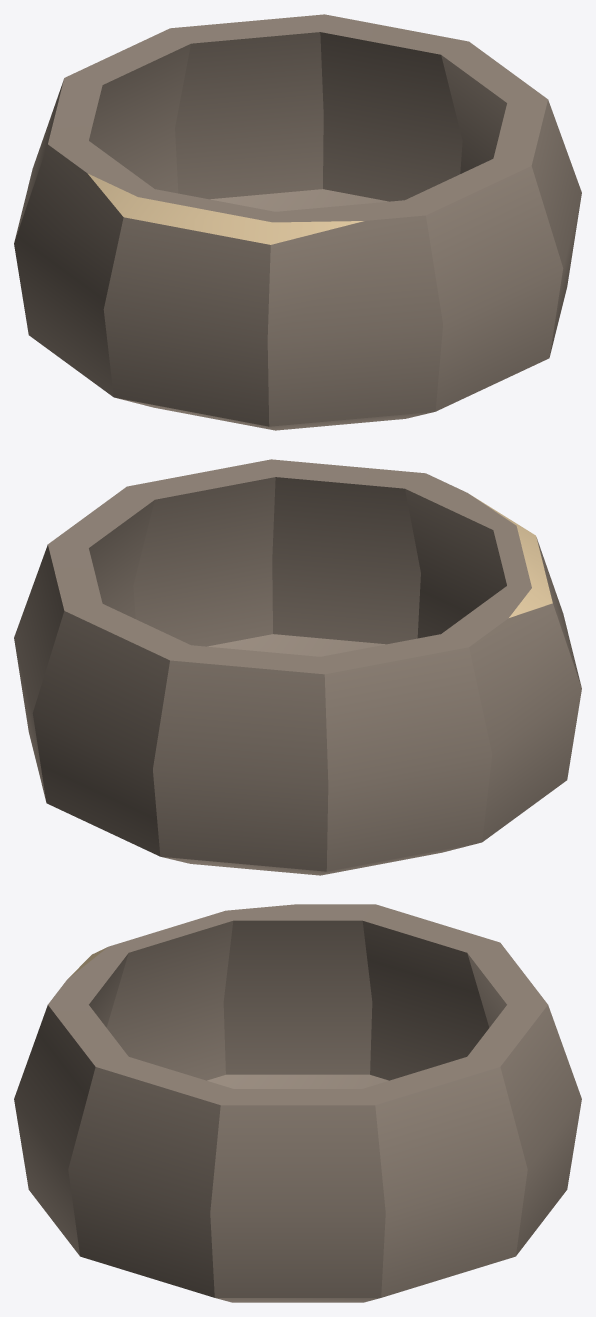
Rendered from EA_Items_House_bowl_wod_2.glb.
3 renders of one model, top to bottom at view 1: azimuth 30°, elevation 25°; view 2: azimuth 150°, elevation 25°; view 3: azimuth 270°, elevation 25°, orthographic. The views are drawn at different scales.
Parts seen in each view (by area): view 1: EA_Items_House_bowl_wod_2; view 2: EA_Items_House_bowl_wod_2; view 3: EA_Items_House_bowl_wod_2.
Boxes of the visible parts, bbox=[...] form: EA_Items_House_bowl_wod_2: bbox=[14, 14, 581, 430]; EA_Items_House_bowl_wod_2: bbox=[14, 459, 581, 875]; EA_Items_House_bowl_wod_2: bbox=[14, 904, 581, 1302].
Size of the model in its own units: 0.2286 by 0.0996 by 0.2403.
1 material, 1 textured.
